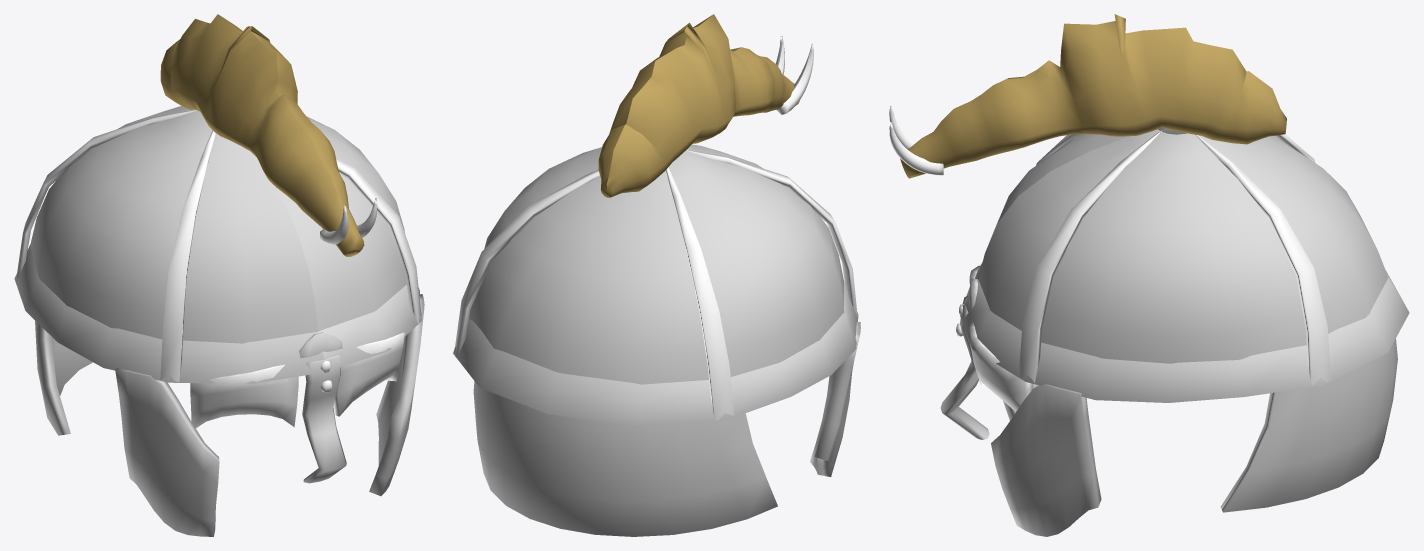
The model's file is helm-runekeeper-boar.glb.
3 renders of one model, left to right at view 1: azimuth 30°, elevation 25°; view 2: azimuth 150°, elevation 25°; view 3: azimuth 270°, elevation 25°, orthographic. The views are drawn at different scales.
Visible parts, largest first — view 1: helm-runekeeper-boar; view 2: helm-runekeeper-boar; view 3: helm-runekeeper-boar.
Part boxes in pixels (bbox=[...]): helm-runekeeper-boar: bbox=[14, 14, 424, 536]; helm-runekeeper-boar: bbox=[453, 14, 860, 536]; helm-runekeeper-boar: bbox=[889, 14, 1409, 536].
Size of the model in its own units: 0.2323 by 0.3003 by 0.3004.
